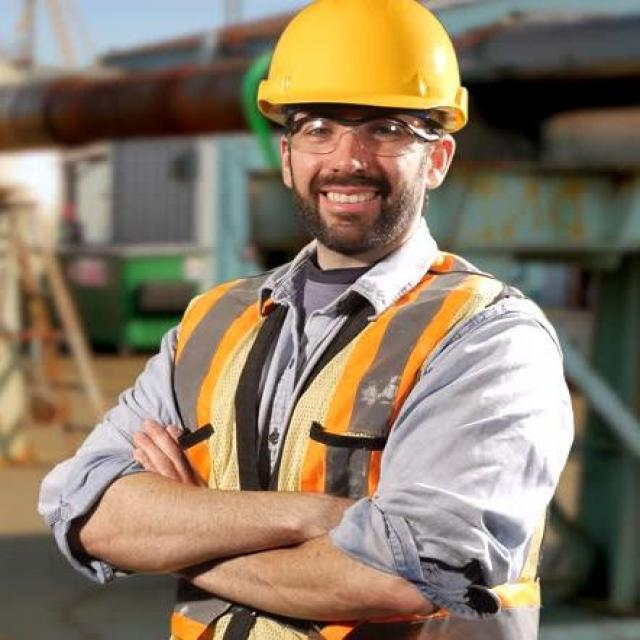Reflective-Jacket: (153, 245, 547, 640)
Safety-Helmet: (252, 0, 472, 131)
